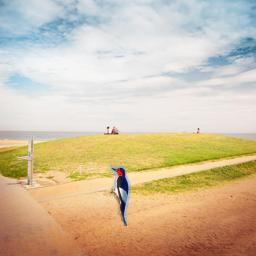Woodpecker: (109, 163, 132, 226)
